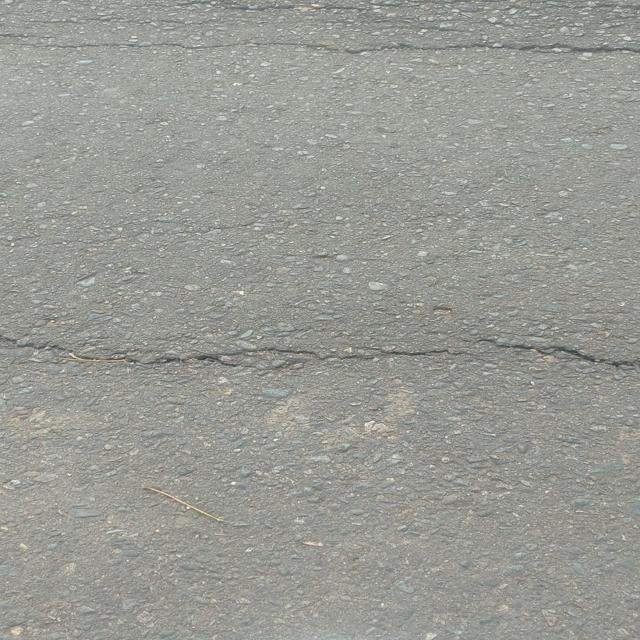Melintang: (0, 313, 640, 384), (0, 24, 640, 67)
